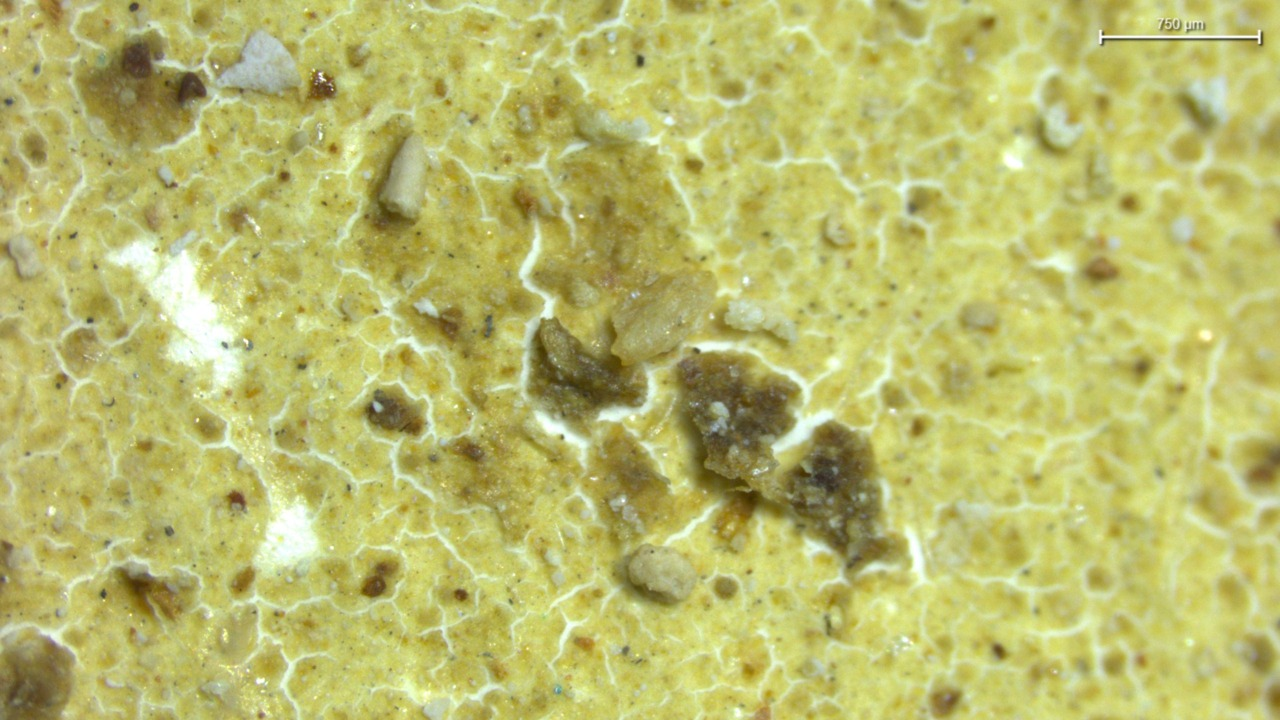microplastic_fragment: (611, 271, 715, 365), (217, 30, 298, 93), (379, 134, 427, 219), (628, 544, 696, 602), (723, 298, 797, 343)
